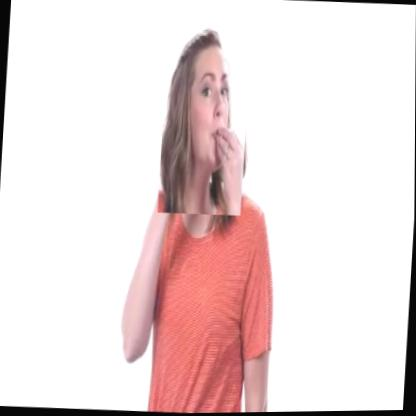Food: (158, 29, 251, 217)
